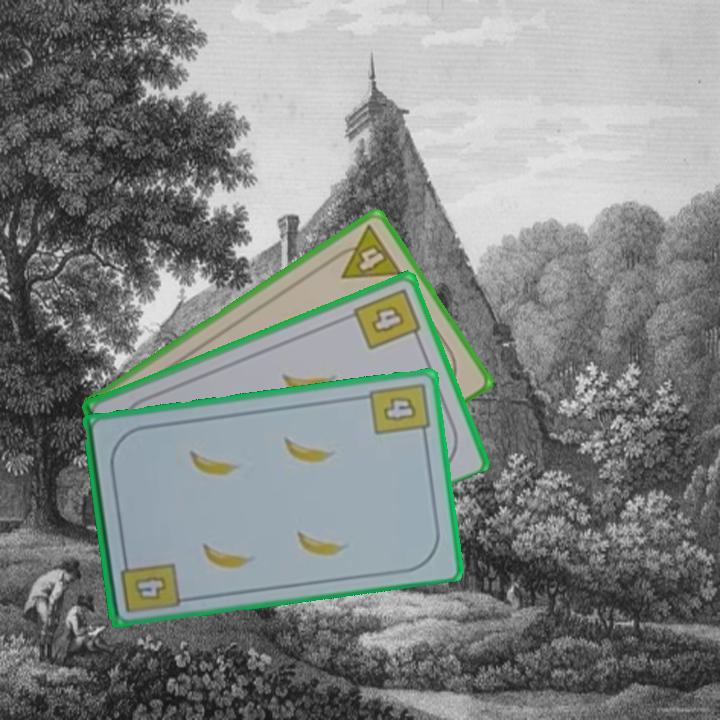4b: (350, 284, 424, 353), (366, 378, 432, 442), (116, 551, 181, 615)
4p: (326, 221, 405, 282)
